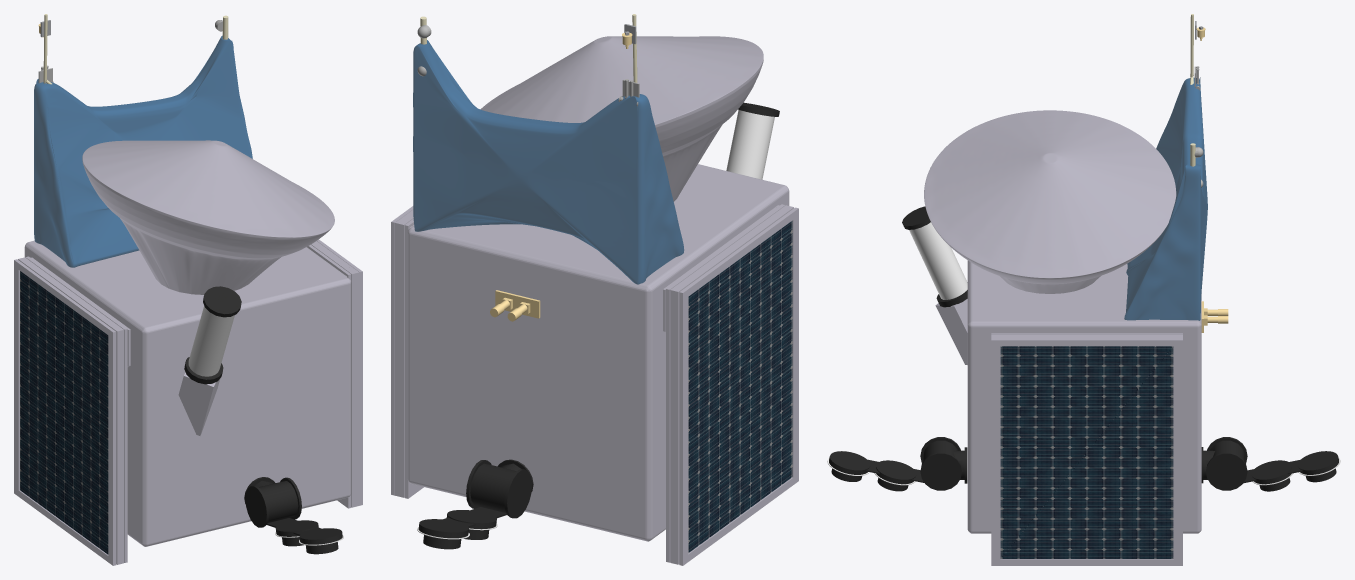
File: cruise-orbiter-transformed.glb
3 renders of one model, left to right at view 1: azimuth 30°, elevation 25°; view 2: azimuth 150°, elevation 25°; view 3: azimuth 270°, elevation 25°, orthographic. The views are drawn at different scales.
Parts seen in each view (by area): view 1: Cube.001, Icosphere, SolarPanelLeft_3, Cube, SIgnalCylinder, ThrusterFrontPart1, ThrusterFrontPart3, DSOC_Box, SolarPanelLeft_1, SolarPanelLeft_4, SolarPanelRight_2, SolarPanelRight_3 (+5 smaller); view 2: Cube.001, Cube, SolarPanelLeft_3, Icosphere, ThrusterBackPart1, SIgnalCylinder, ThrusterBackPart3, SolarPanelLeft_1, SolarPanelLeft_2, SolarPanelLeft_5, SolarPanelLeft_4, SolarPanelRight_2 (+5 smaller); view 3: SolarPanelRight_3, Icosphere, Cube.001, Cube, SIgnalCylinder, ThrusterBackPart3, ThrusterFrontPart3, ThrusterFrontPart1, ThrusterBackPart1, DSOC_Box.
Boxes of the visible parts, x1,y1,x2,y2 form: Cube.001: [24, 240, 351, 546]; Icosphere: [82, 140, 334, 294]; SolarPanelLeft_3: [14, 259, 116, 565]; Cube: [34, 35, 252, 267]; SIgnalCylinder: [184, 286, 241, 384]; ThrusterFrontPart1: [244, 477, 301, 527]; ThrusterFrontPart3: [267, 518, 342, 554]; DSOC_Box: [178, 366, 223, 435]; SolarPanelLeft_1: [25, 256, 127, 562]; SolarPanelLeft_4: [18, 259, 120, 564]; SolarPanelRight_2: [311, 243, 354, 507]; SolarPanelRight_3: [317, 239, 362, 505]; Cube.001: [407, 164, 789, 541]; Cube: [413, 40, 684, 284]; SolarPanelLeft_3: [679, 207, 798, 565]; Icosphere: [480, 36, 763, 201]; ThrusterBackPart1: [466, 459, 533, 518]; SIgnalCylinder: [726, 102, 779, 179]; ThrusterBackPart3: [418, 507, 506, 549]; SolarPanelLeft_1: [666, 204, 785, 562]; SolarPanelLeft_2: [670, 205, 789, 563]; SolarPanelLeft_5: [674, 206, 792, 563]; SolarPanelLeft_4: [674, 207, 793, 564]; SolarPanelRight_2: [400, 215, 413, 497]; SolarPanelRight_3: [991, 338, 1182, 565]; Icosphere: [924, 110, 1176, 293]; Cube.001: [967, 260, 1201, 533]; Cube: [1124, 77, 1207, 320]; SIgnalCylinder: [902, 206, 967, 307]; ThrusterBackPart3: [1243, 451, 1338, 491]; ThrusterFrontPart3: [829, 451, 924, 491]; ThrusterFrontPart1: [920, 437, 967, 490]; ThrusterBackPart1: [1201, 437, 1247, 490]; DSOC_Box: [935, 299, 967, 364].
Bounding box in the file's own units: 3.7 × 6.59 × 6.8.
Materials: 6 (3 with a texture image).
